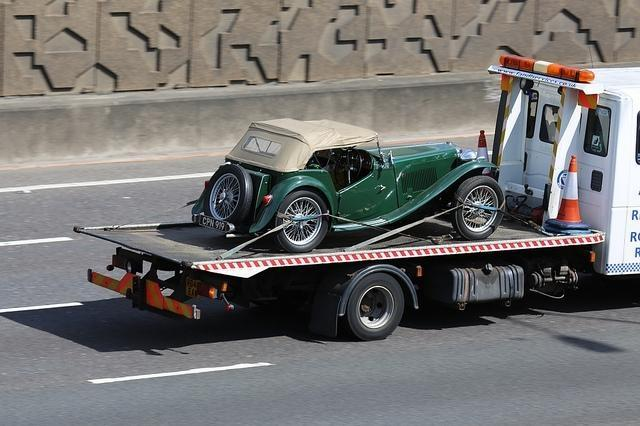car: (200, 115, 504, 244)
truck: (74, 54, 639, 343)
